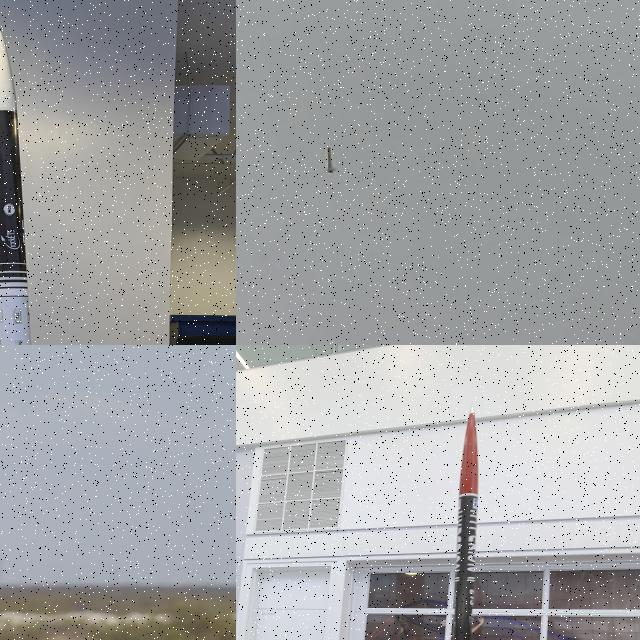Rocket: (0, 28, 32, 345), (454, 402, 478, 640), (324, 146, 337, 174)
